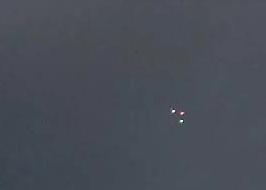Plane: (161, 101, 197, 128)
